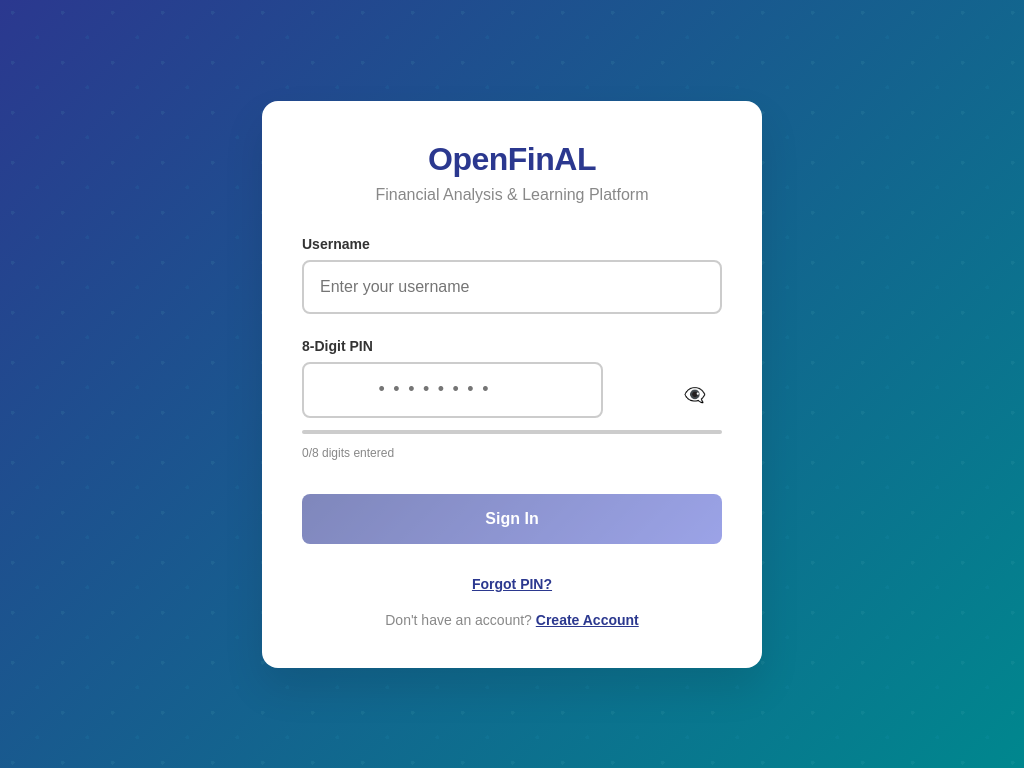
it: PinLogin › should show loading state during login
The image size is (1024, 768).
Type "testuser" into the field labelled "Username" at (512, 286), box [302,260,722,314]
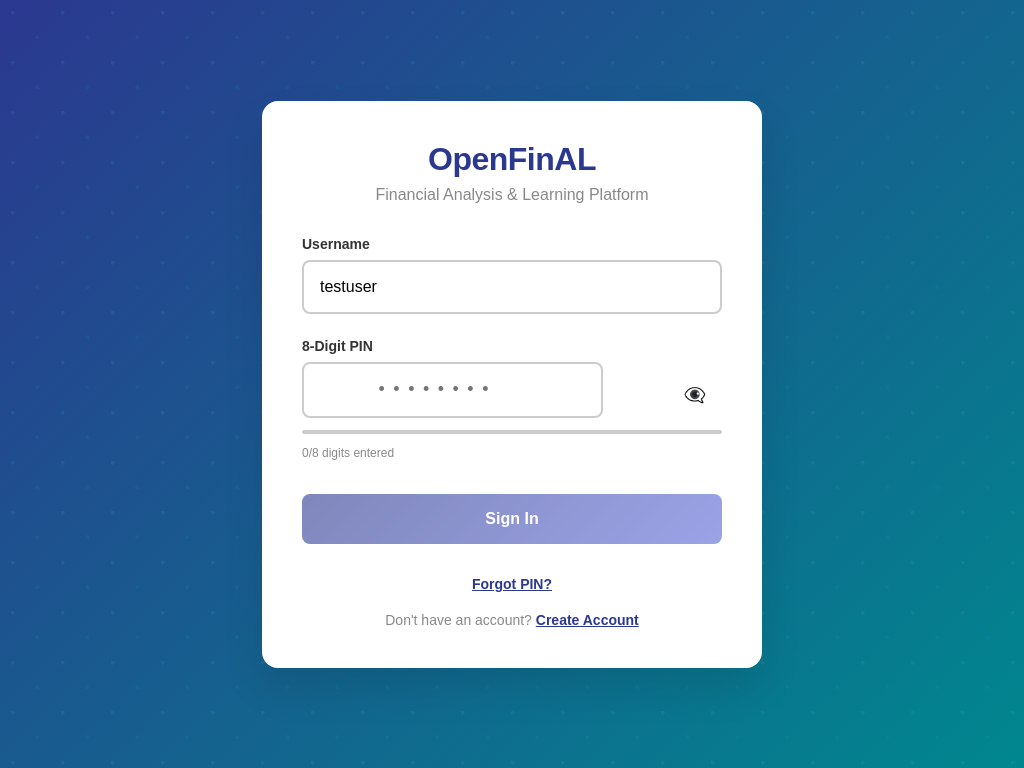
Type "12345678" into the password field labelled "8-Digit PIN" at (452, 390), box [302,362,603,418]
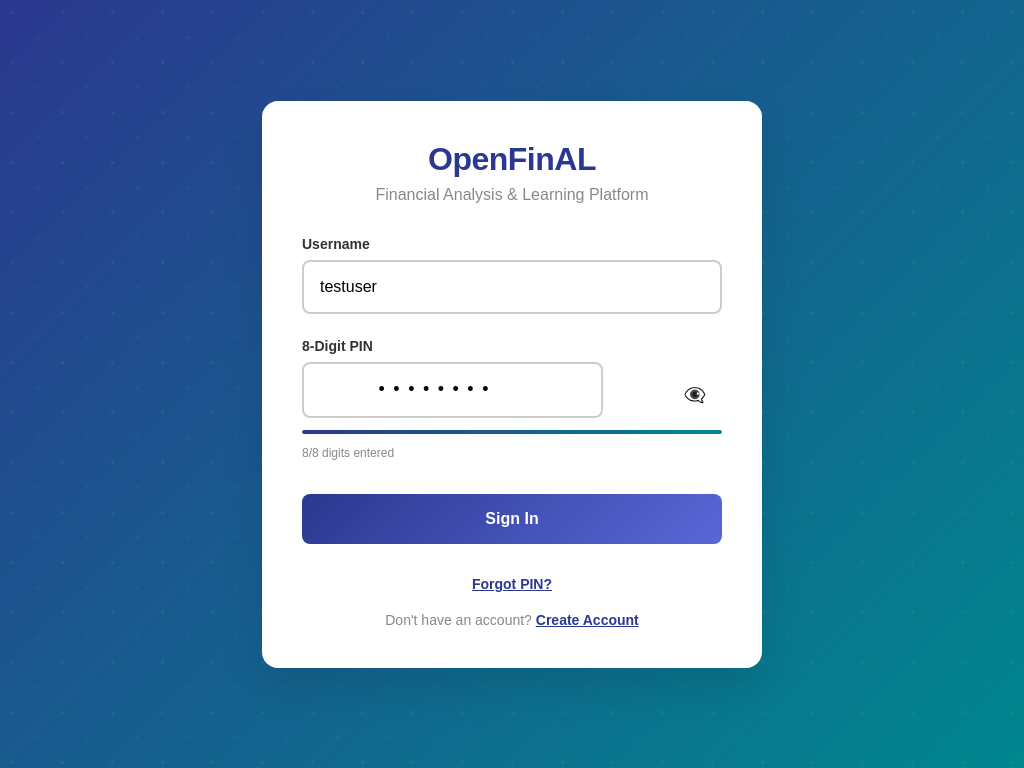
Click the button "Sign In" at (512, 518), box [302,494,722,544]
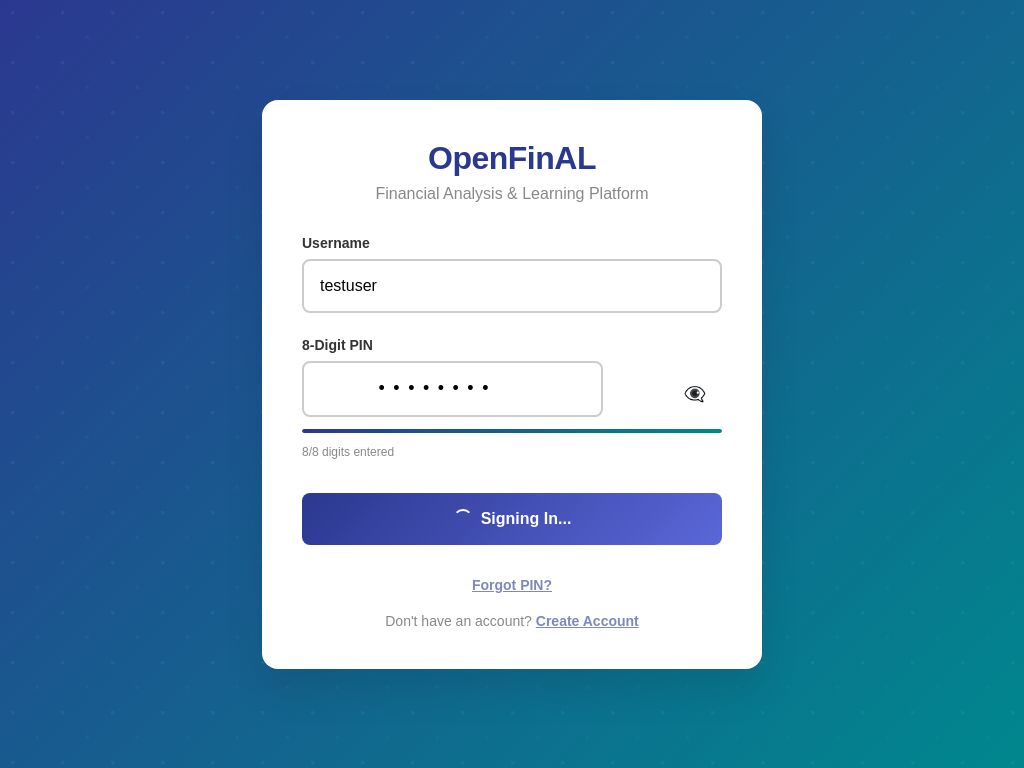
Check: the text "Signing In..." is shown, box [453,508,571,528]
Check: the button "Signing In..." is disabled, box [302,492,722,544]
